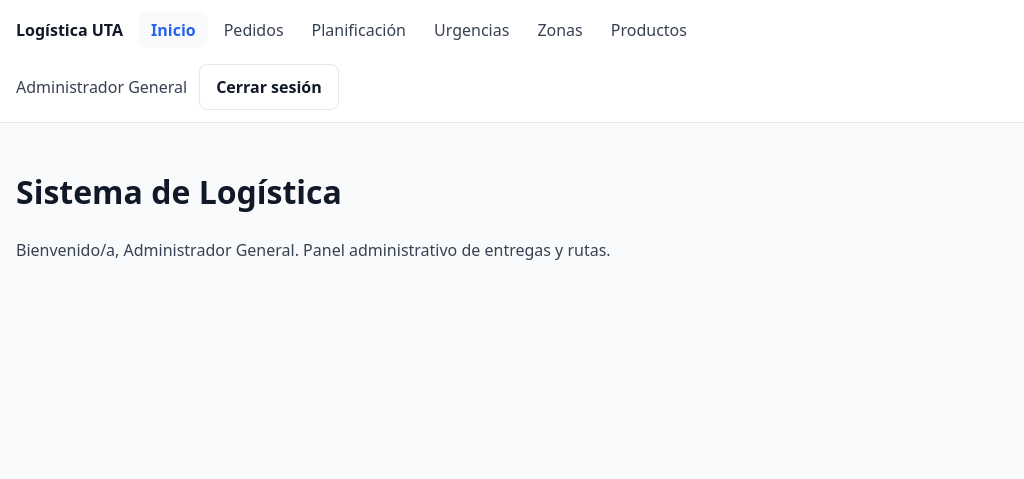
Test: App › navega a Planificación desde el menú principal y marca la opción activa
Click the link "Planificación": (359, 30) left=312, top=19, right=406, bottom=41
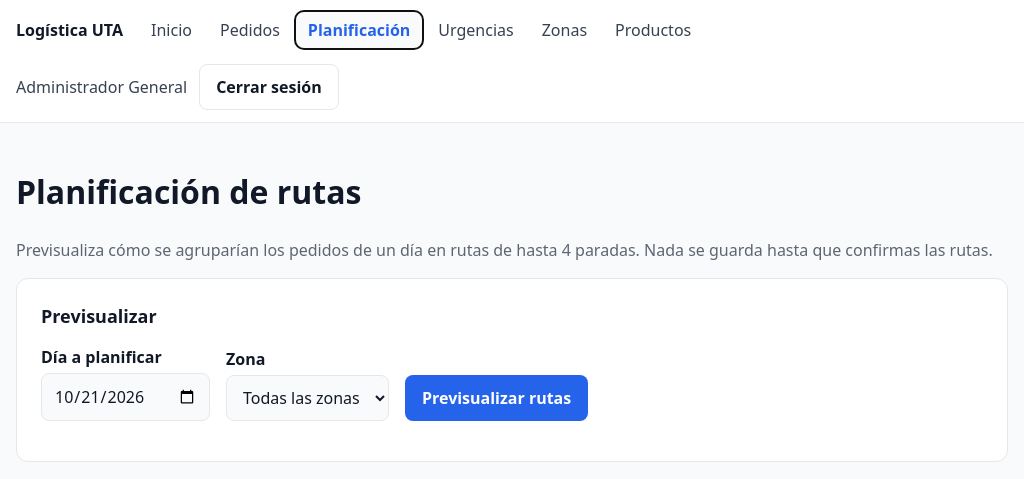
Now the heading "Planificación de rutas" is shown, box left=16, top=170, right=361, bottom=213
